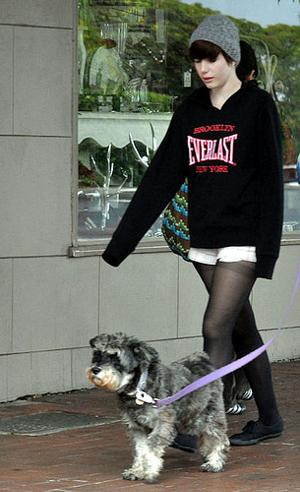person: (104, 17, 285, 445)
